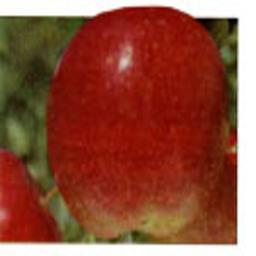apple: (45, 7, 232, 241)
